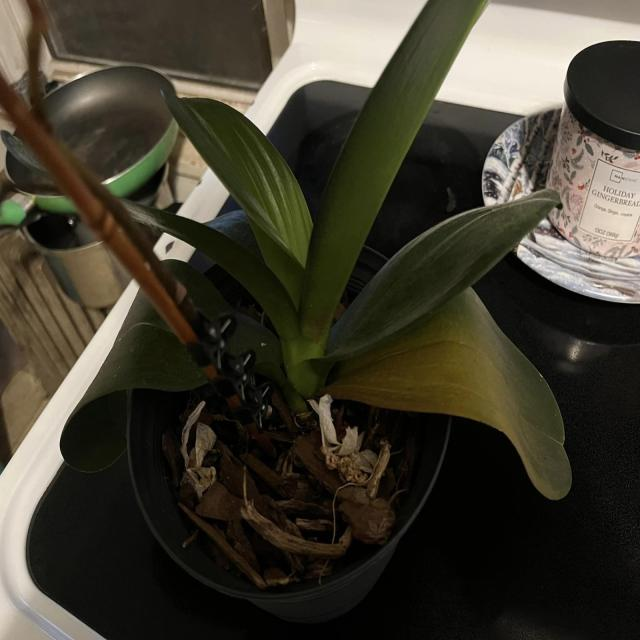leaf: (321, 289, 570, 499), (310, 1, 483, 298), (334, 194, 554, 351), (139, 69, 313, 257), (143, 205, 299, 342), (86, 322, 208, 402), (566, 41, 639, 146)
plant: (79, 1, 589, 640)
pot: (110, 222, 477, 627)
root: (240, 443, 395, 558), (310, 396, 377, 485), (310, 395, 339, 447)
